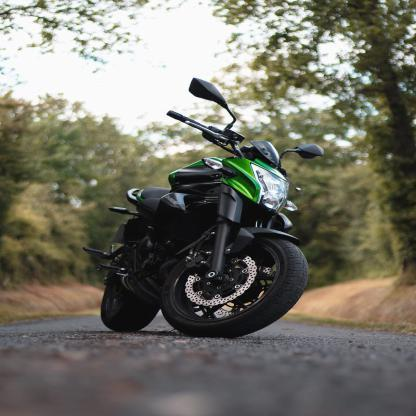Motorcycle: (68, 76, 342, 345)
